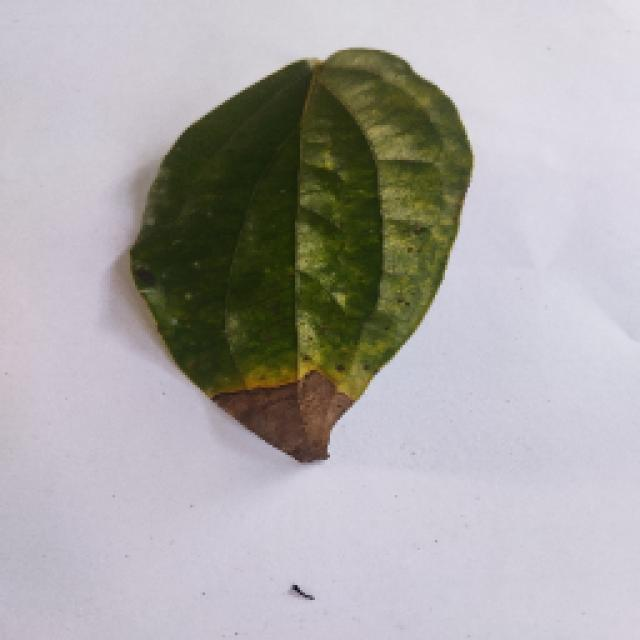footrot: (98, 38, 482, 462)
